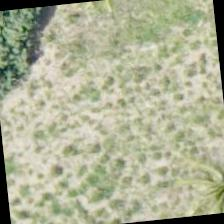Kelapa_Sawit: (178, 141, 223, 217)
